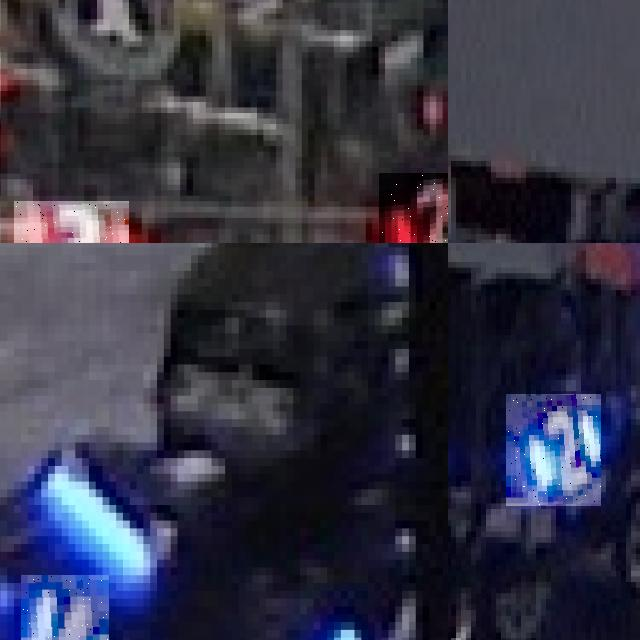B2: (506, 394, 601, 506)
B4: (20, 575, 109, 640)
R2: (378, 173, 448, 243), (14, 201, 129, 243)
